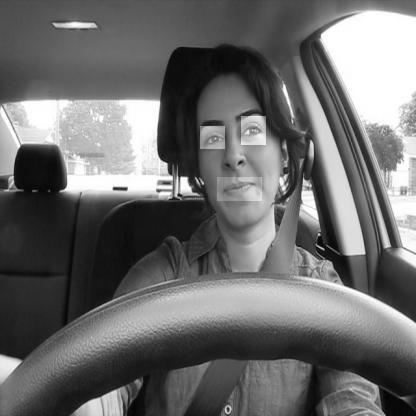seatbelt: (169, 35, 307, 416)
